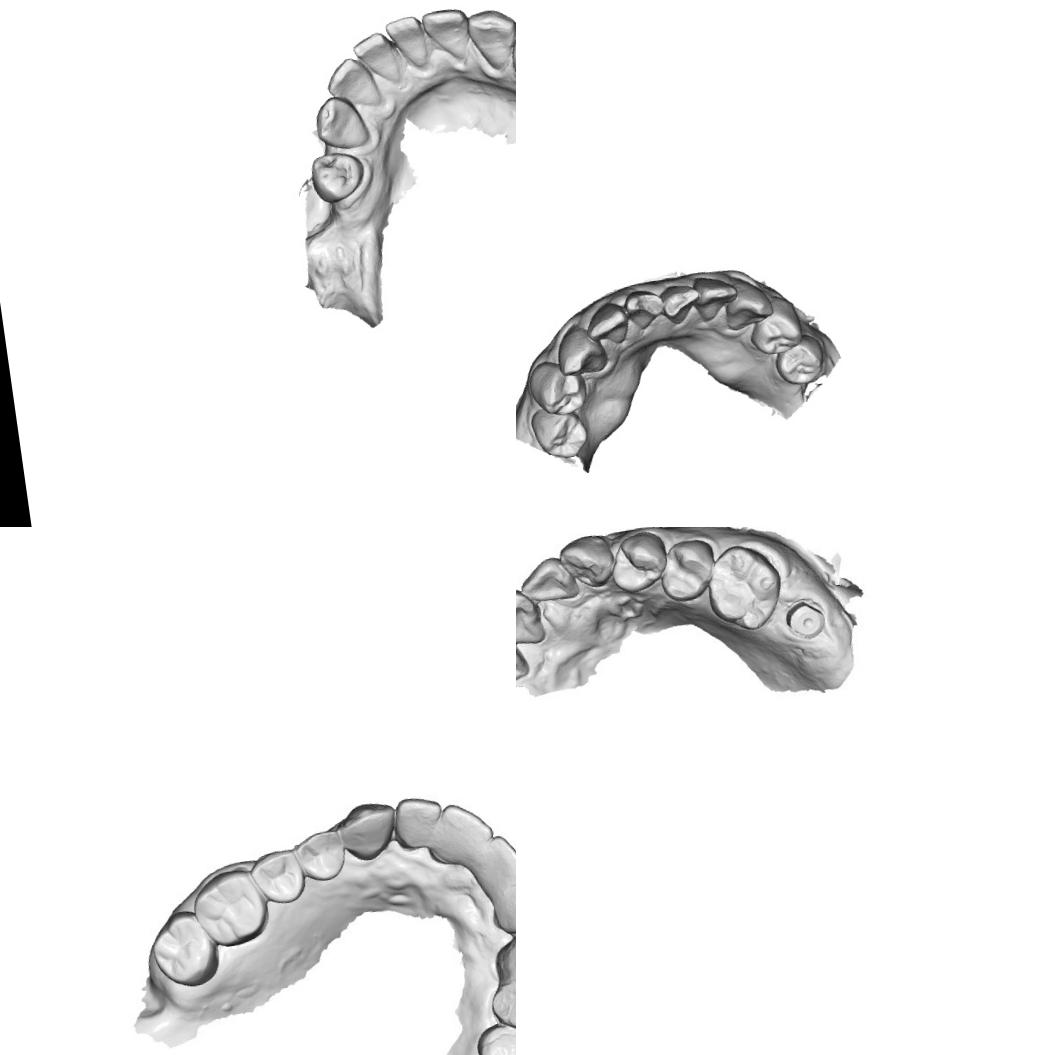canine: (335, 798, 402, 866), (463, 4, 516, 75), (551, 318, 611, 380), (556, 532, 618, 592), (719, 271, 778, 333), (310, 92, 370, 152), (489, 926, 516, 989)
implant: (783, 593, 832, 642)
incisor: (424, 797, 498, 866), (321, 52, 385, 114), (516, 551, 582, 609), (349, 28, 406, 89), (461, 830, 516, 893), (419, 3, 475, 64), (390, 792, 446, 848), (383, 13, 430, 73), (580, 298, 632, 350), (691, 271, 741, 324), (620, 284, 668, 334), (516, 582, 550, 652), (658, 279, 704, 328), (488, 879, 516, 936)
molar: (700, 538, 789, 636), (188, 864, 272, 952), (146, 909, 224, 992)
premolar: (654, 534, 721, 605), (523, 354, 592, 421), (606, 527, 673, 594), (743, 293, 808, 360), (528, 401, 593, 464), (246, 846, 308, 908), (769, 330, 830, 390), (307, 146, 369, 205), (291, 826, 350, 885), (485, 979, 516, 1035), (472, 1019, 516, 1055)
